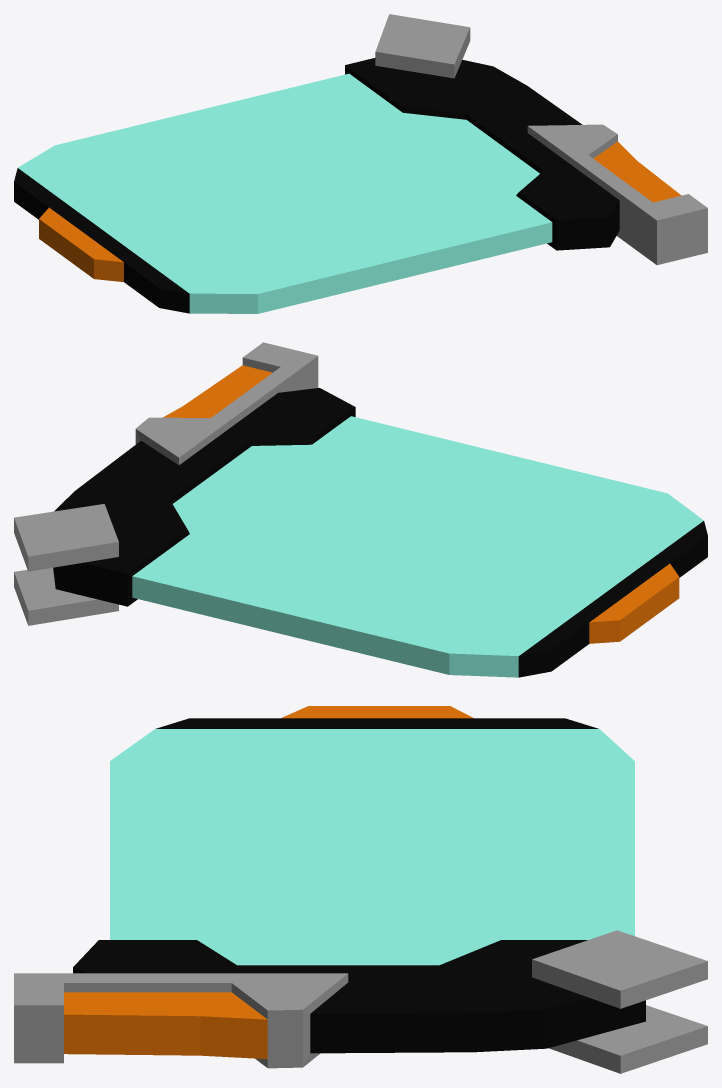
File: SM_tablet.fbx
3 views of the same model, one above another, from view 1: azimuth 30°, elevation 25°; view 2: azimuth 150°, elevation 25°; view 3: azimuth 270°, elevation 25° (orthographic). The views are drawn at different scales.
Visible parts, largest first — view 1: tablet_lp; view 2: tablet_lp; view 3: tablet_lp.
Part boxes in pixels (x1=…): tablet_lp: x1=14, y1=14, x2=707, y2=313; tablet_lp: x1=14, y1=342, x2=707, y2=677; tablet_lp: x1=14, y1=706, x2=707, y2=1073.
Bounding box in the file's own units: 38.05 × 4.6 × 34.82.
Materials: 1 (1 with a texture image).
